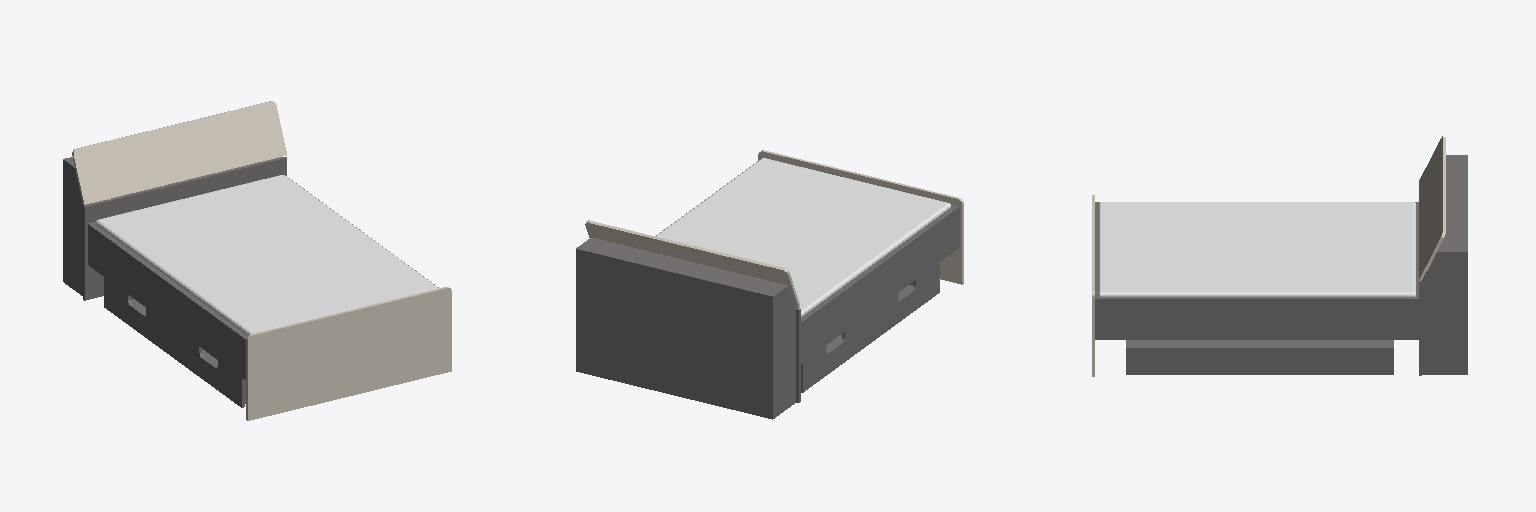
Rendered from 2pir_lozko2os_szczyt_pojemnik_140.obj.
3 views of the same model, side by side, from view 1: azimuth 30°, elevation 25°; view 2: azimuth 150°, elevation 25°; view 3: azimuth 270°, elevation 25° (orthographic).
Parts seen in each view (by area): view 1: ChamferBox01, Rectangle16, Rectangle15, Box02, Rectangle01, Line01; view 2: Line01, ChamferBox01, Box02, Rectangle01, Rectangle15, Rectangle16; view 3: ChamferBox01, Box02, Box01, Line01, Rectangle15, Rectangle16.
Boxes of the visible parts, <box> form: ChamferBox01: <box>95,175,438,335</box>; Rectangle16: <box>246,287,451,420</box>; Rectangle15: <box>72,101,286,300</box>; Box02: <box>88,175,438,379</box>; Rectangle01: <box>104,277,244,407</box>; Line01: <box>63,157,281,295</box>; Line01: <box>576,237,795,419</box>; ChamferBox01: <box>656,158,950,316</box>; Box02: <box>656,159,959,363</box>; Rectangle01: <box>801,263,939,392</box>; Rectangle15: <box>585,220,800,402</box>; Rectangle16: <box>758,150,963,284</box>; ChamferBox01: <box>1098,202,1415,296</box>; Box02: <box>1095,202,1418,339</box>; Box01: <box>1126,340,1393,374</box>; Line01: <box>1422,155,1467,374</box>; Rectangle15: <box>1419,136,1445,375</box>; Rectangle16: <box>1092,195,1094,376</box>.
Size of the model in its own units: 145 by 96.98 by 231.